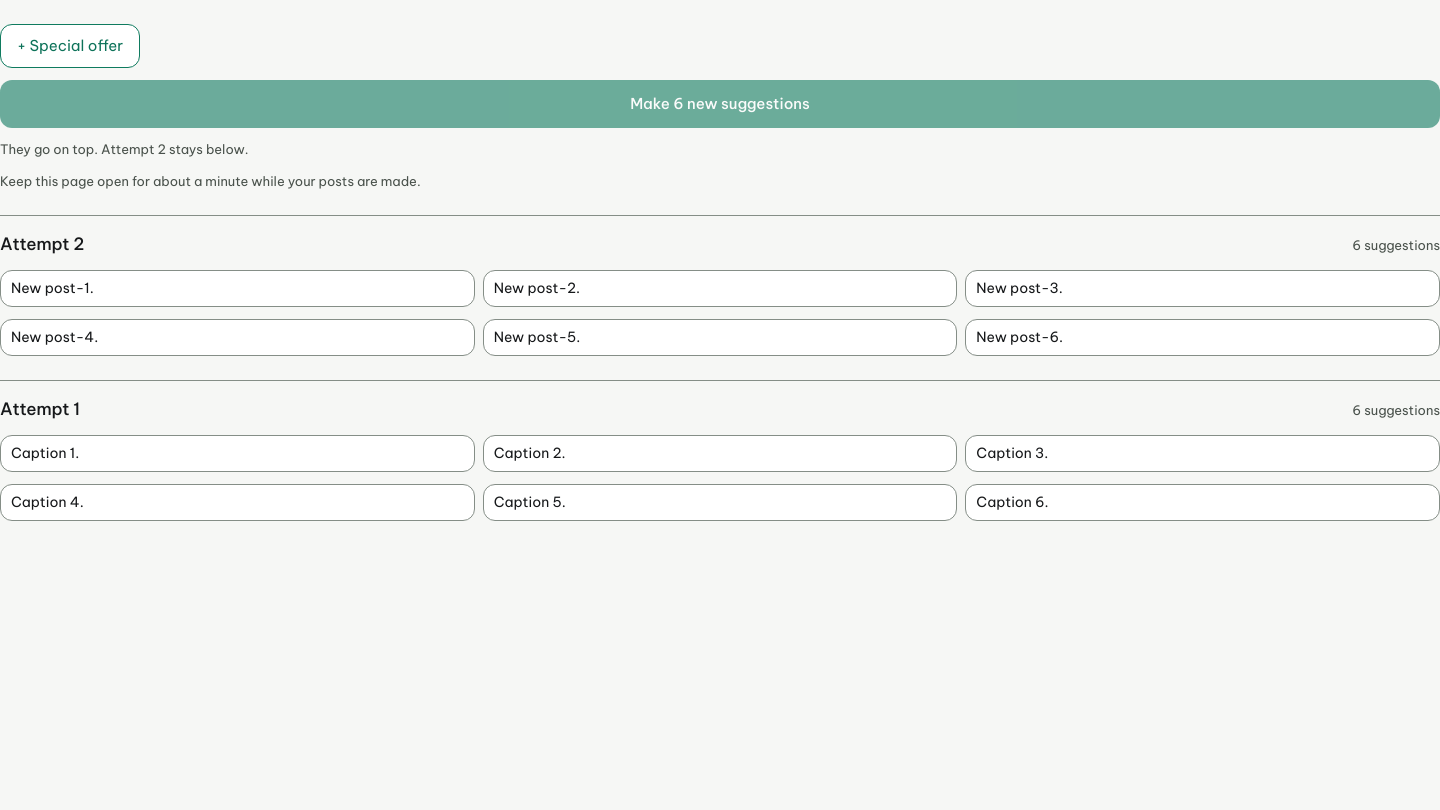
Test: the grid and the sheet › closing gives focus back to the tile of the same attempt
Click the button "New post-3.".
click(1203, 288)  # box [965,270,1439,307]
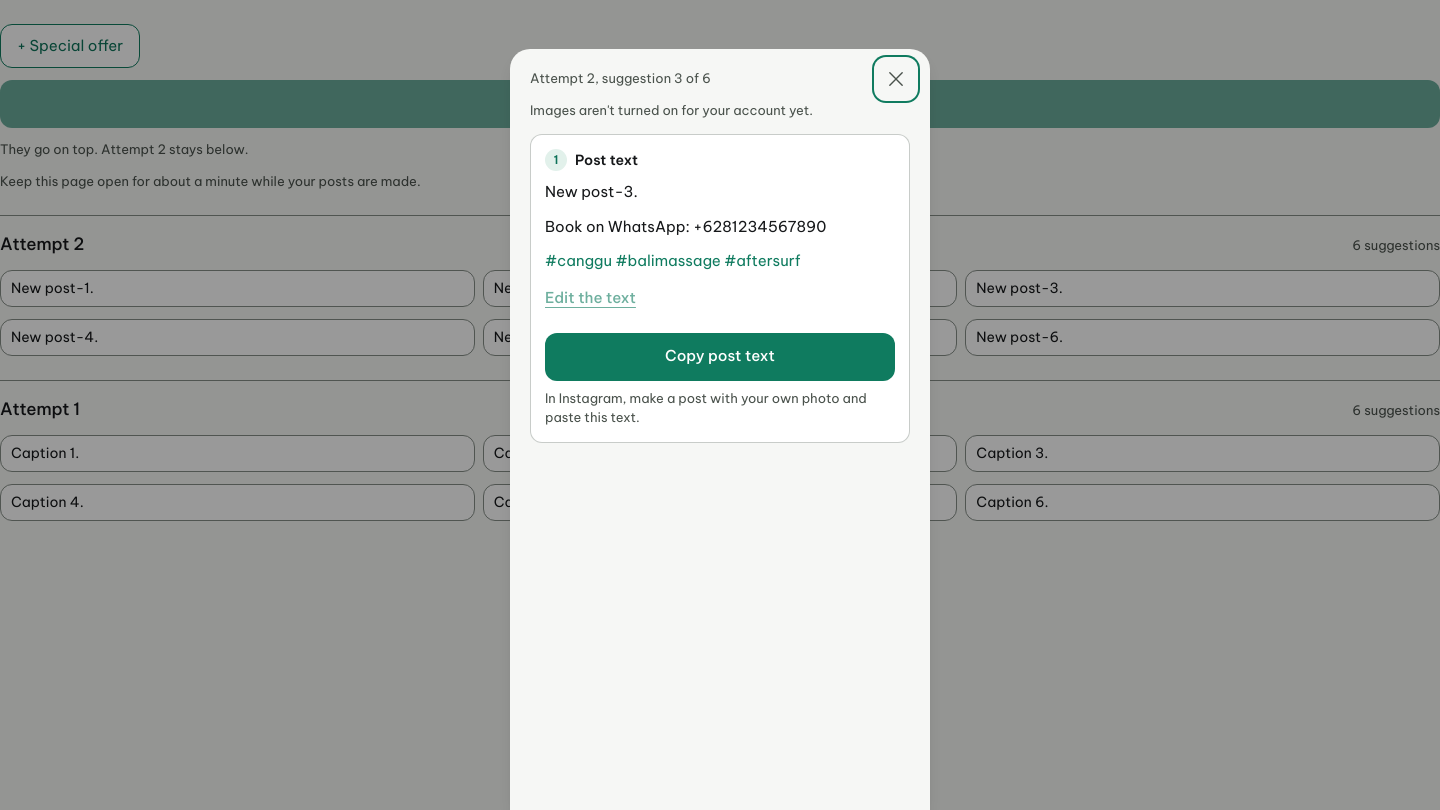
Click the button named "Close".
click(896, 79)  # box [874,57,918,101]
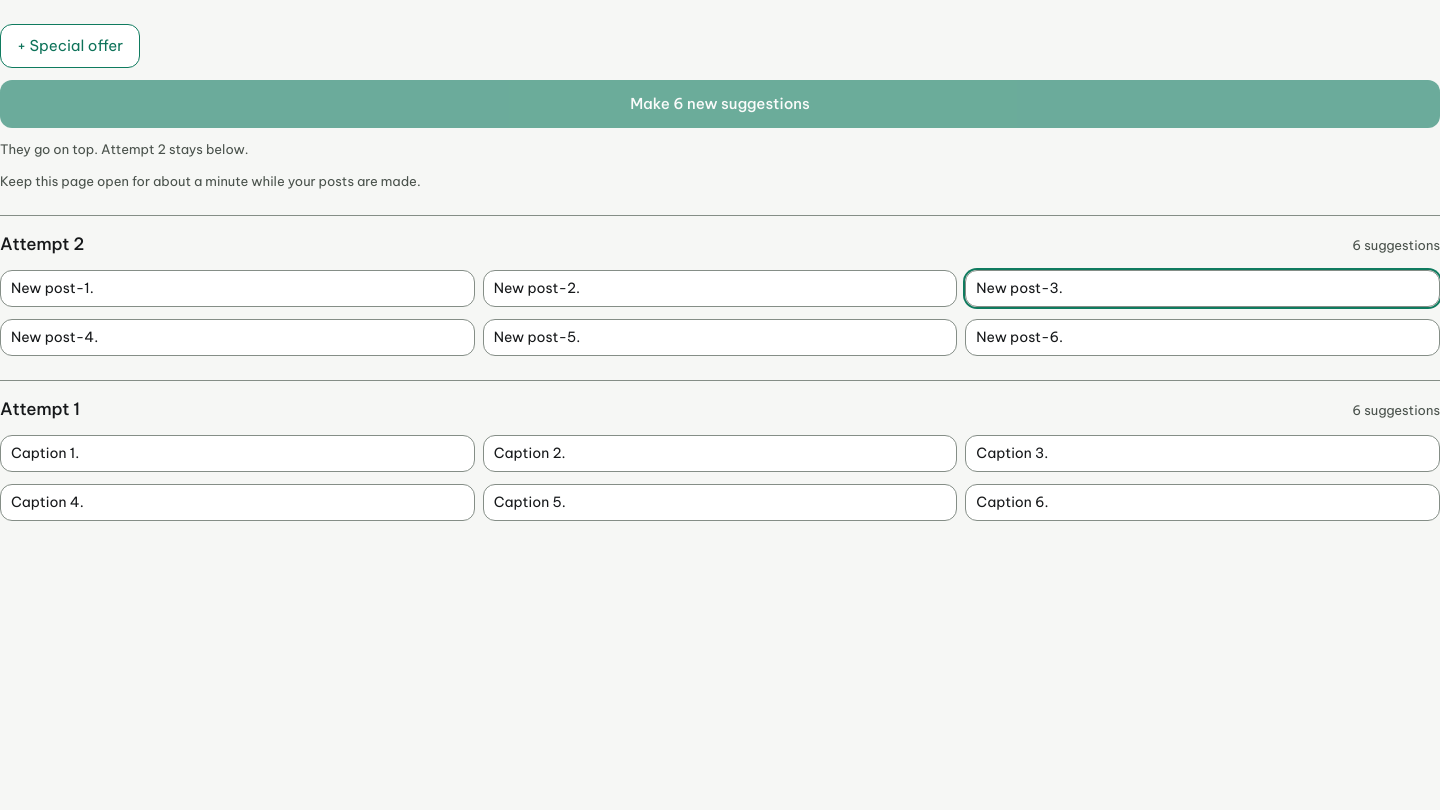
Check: the dialog is gone
